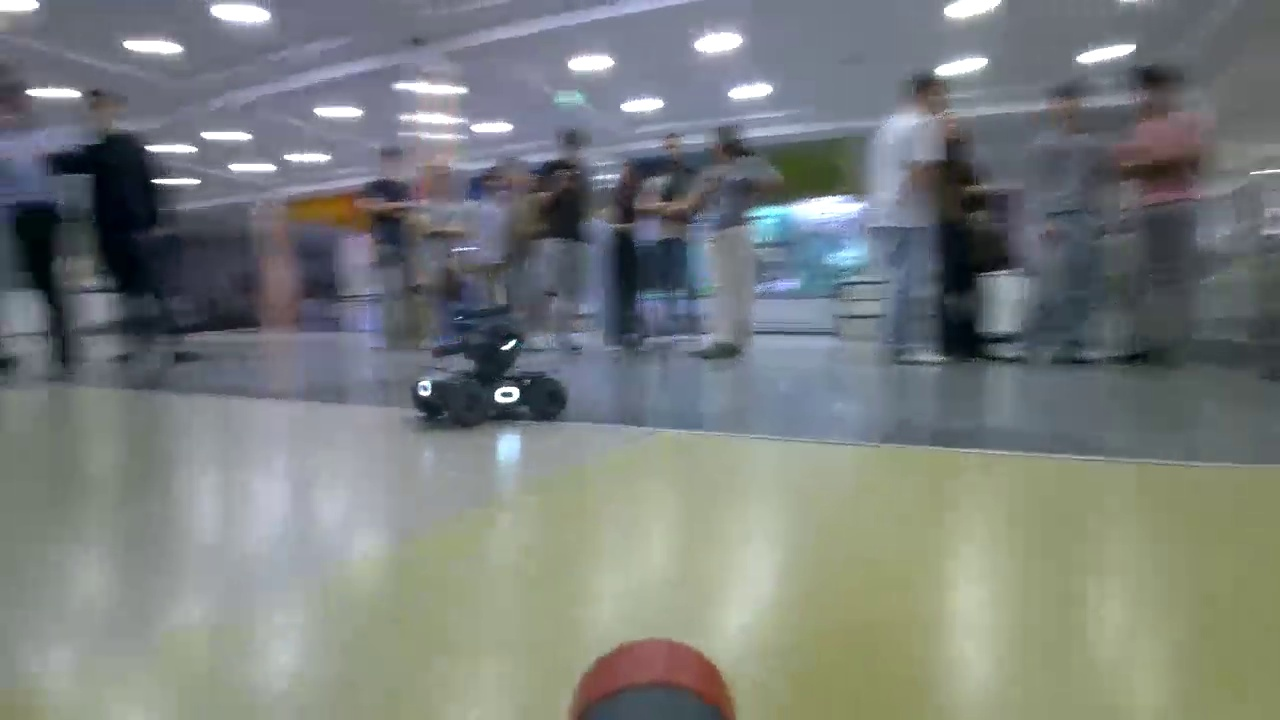robot: (413, 307, 570, 424)
